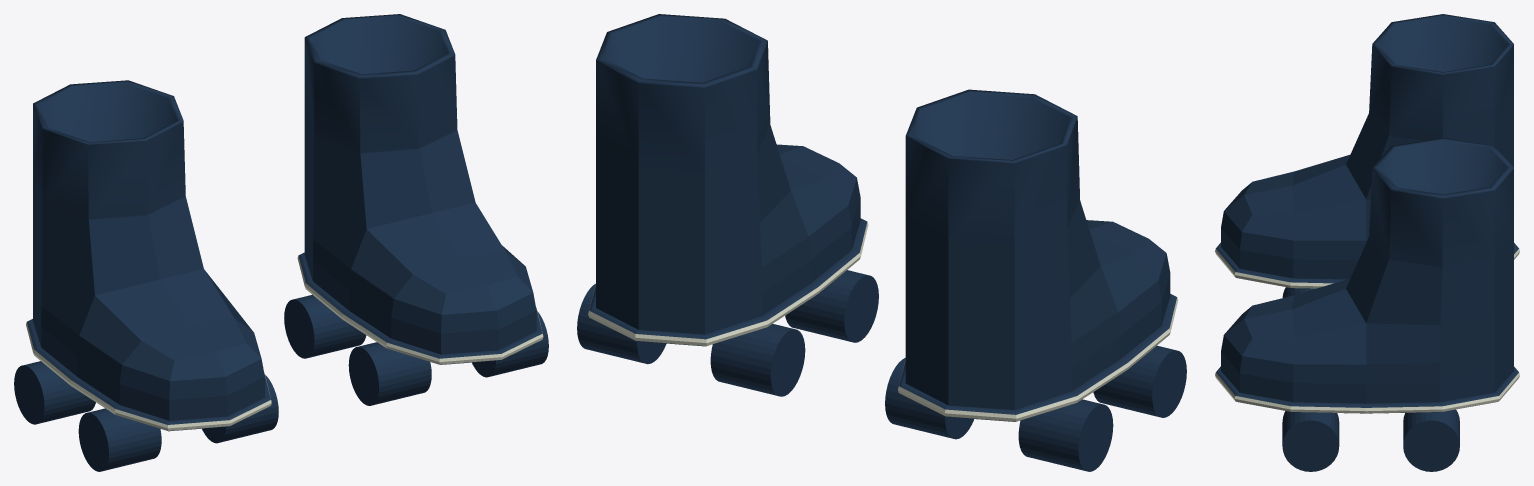
File: RollerSkates.fbx
3 views of the same model, side by side, from view 1: azimuth 30°, elevation 25°; view 2: azimuth 150°, elevation 25°; view 3: azimuth 270°, elevation 25° (orthographic). The views are drawn at different scales.
Parts seen in each view (by area): view 1: Cube.001; view 2: Cube.001; view 3: Cube.001.
Boxes of the visible parts, x1,y1,x2,y2 form: Cube.001: [14, 14, 548, 471]; Cube.001: [577, 14, 1186, 471]; Cube.001: [1215, 14, 1519, 471].
Size of the model in its own units: 613 by 380 by 394.
